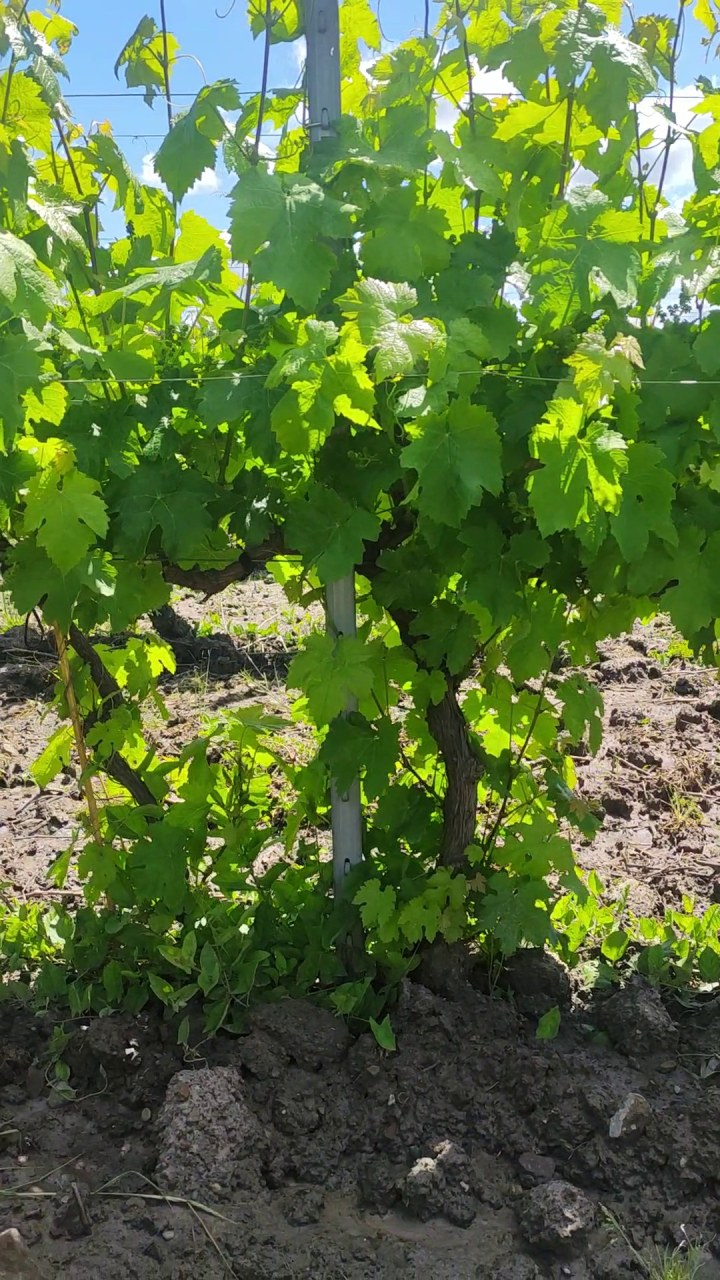vine_trunk: (427, 682, 482, 869)
